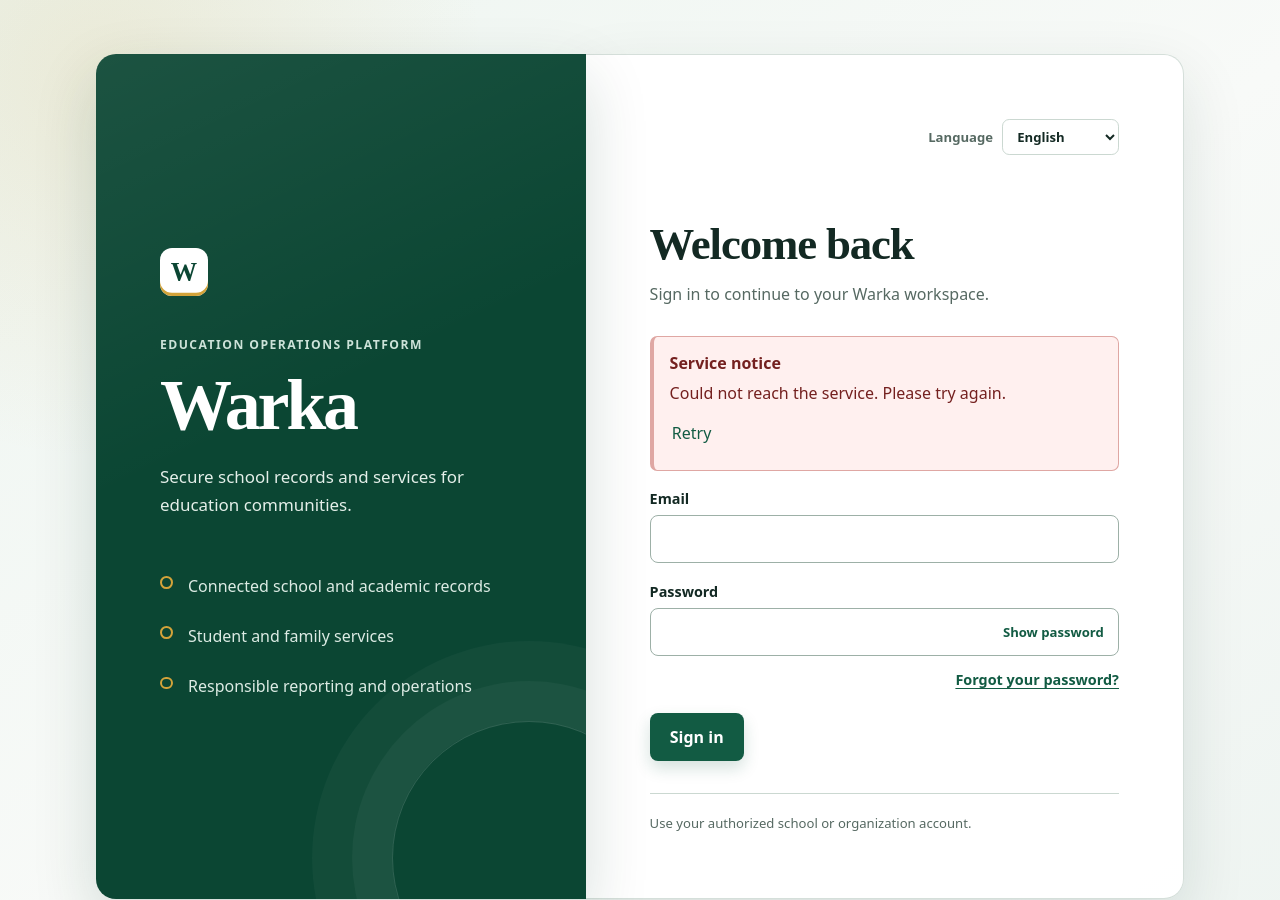
Test: authenticated web shell › handles network failures and expired sessions
Expected: the text "Could not reach the service. Please try again." is shown, [670,382,1006,404]
Click the button "Retry": (692, 433) [670,411,714,455]
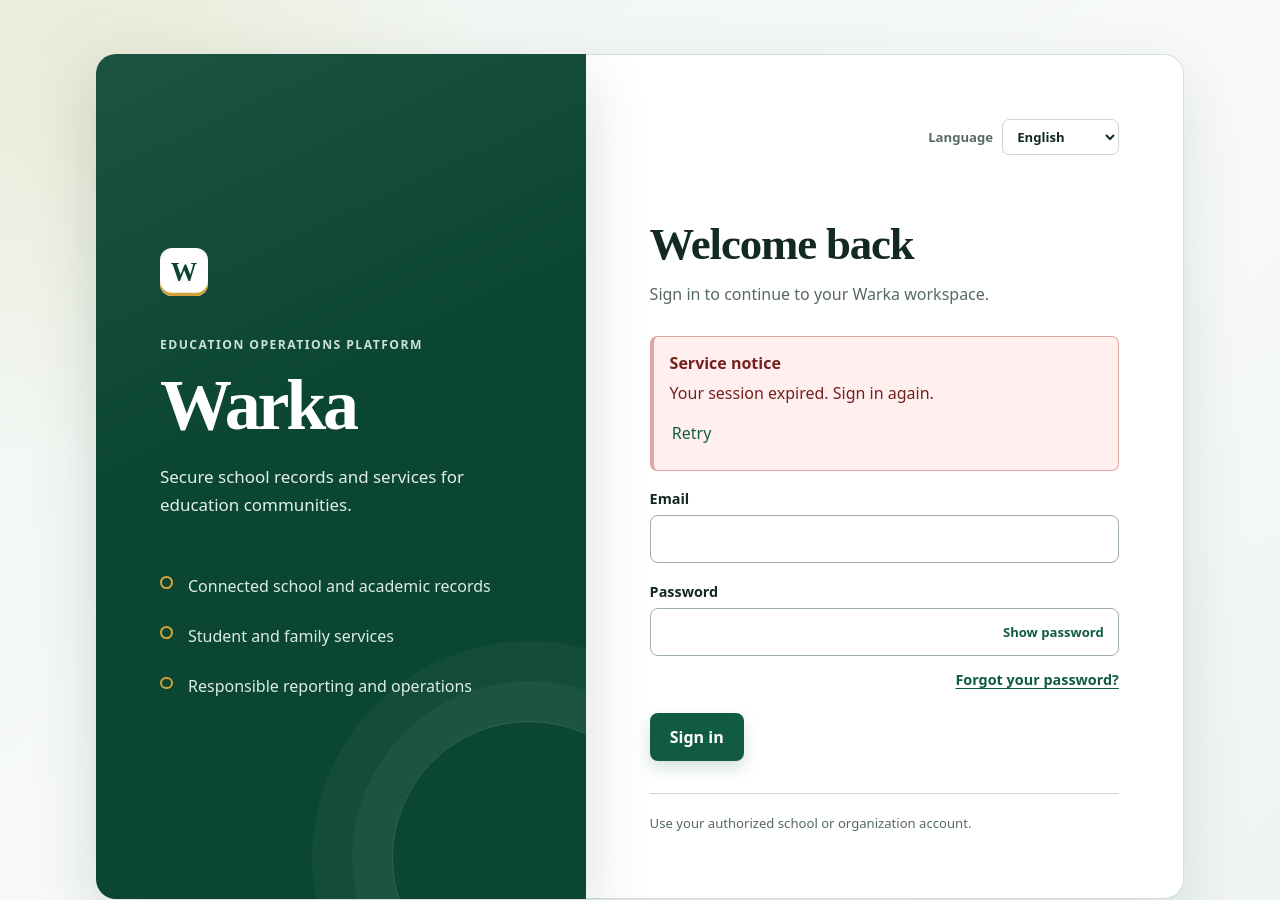
Expected: the text "Your session expired. Sign in again." is shown, [670,382,934,404]
